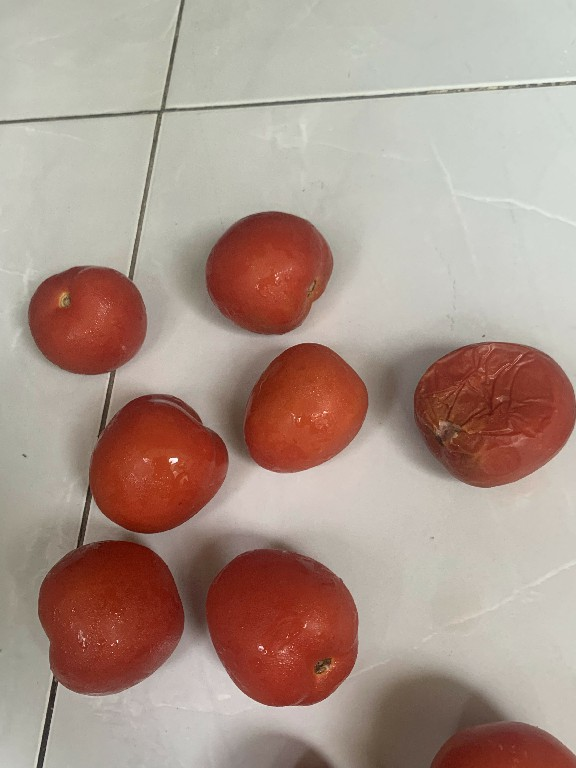NG: (403, 334, 575, 495)
OK: (192, 541, 366, 718), (26, 533, 191, 703), (74, 385, 233, 542), (232, 336, 378, 483), (195, 197, 338, 340), (20, 253, 152, 382)
